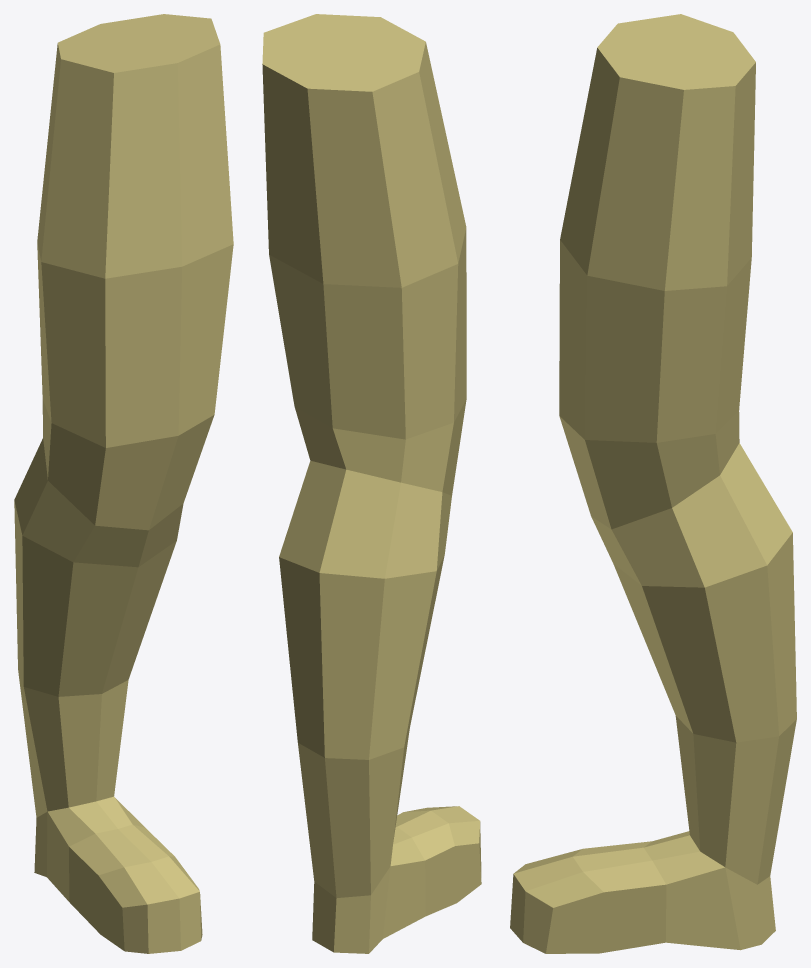
The model's file is Rleg.fbx.
3 views of the same model, side by side, from view 1: azimuth 30°, elevation 25°; view 2: azimuth 150°, elevation 25°; view 3: azimuth 270°, elevation 25° (orthographic). The views are drawn at different scales.
Parts seen in each view (by area): view 1: leg_R; view 2: leg_R; view 3: leg_R.
Boxes of the visible parts, x1,y1,x2,y2 form: leg_R: (14,14,233,953); leg_R: (262,14,481,953); leg_R: (510,14,796,953).
Size of the model in its own units: 22.63 by 101 by 28.91.
